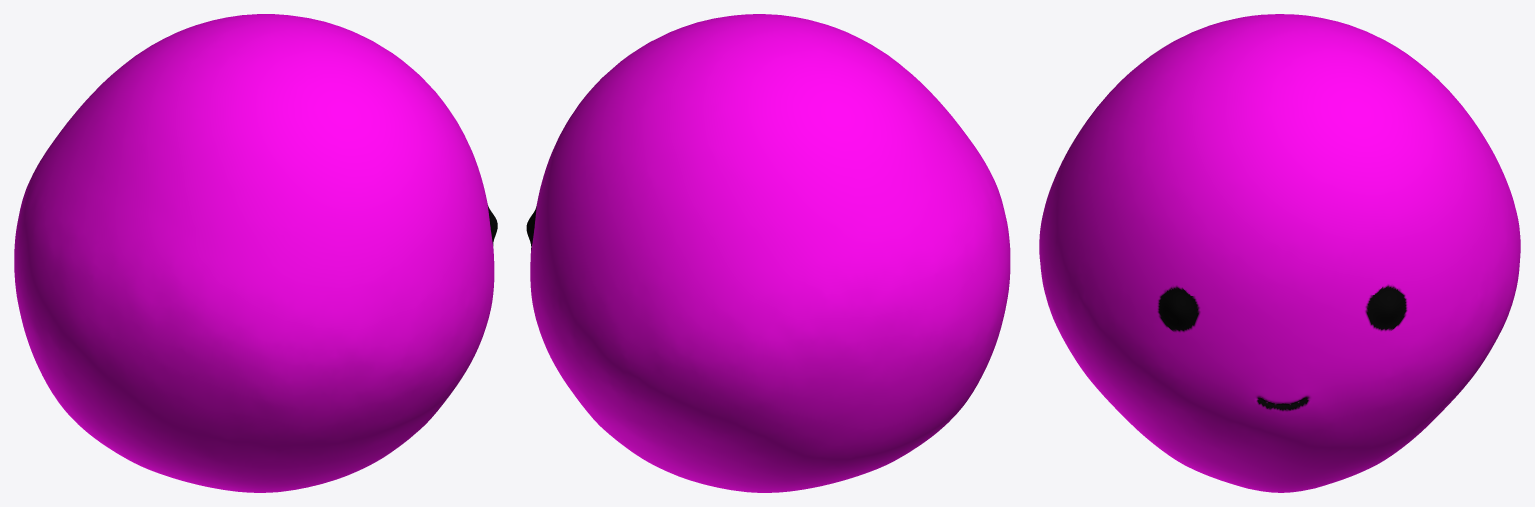
The model's file is slime_rancher_pink_slime.glb.
The picture shows the model from 3 angles, left to right: view 1: azimuth 30°, elevation 25°; view 2: azimuth 150°, elevation 25°; view 3: azimuth 270°, elevation 25°; orthographic projection.
Visible parts, largest first — view 1: Object_2; view 2: Object_2; view 3: Object_2.
Boxes of the visible parts, left/top/right/bottom form: Object_2: left=14, top=14, right=497, bottom=492; Object_2: left=526, top=14, right=1010, bottom=492; Object_2: left=1039, top=14, right=1520, bottom=492.
Size of the model in its own units: 2.16 by 2.14 by 2.19.
Materials: 1 (1 with a texture image).
